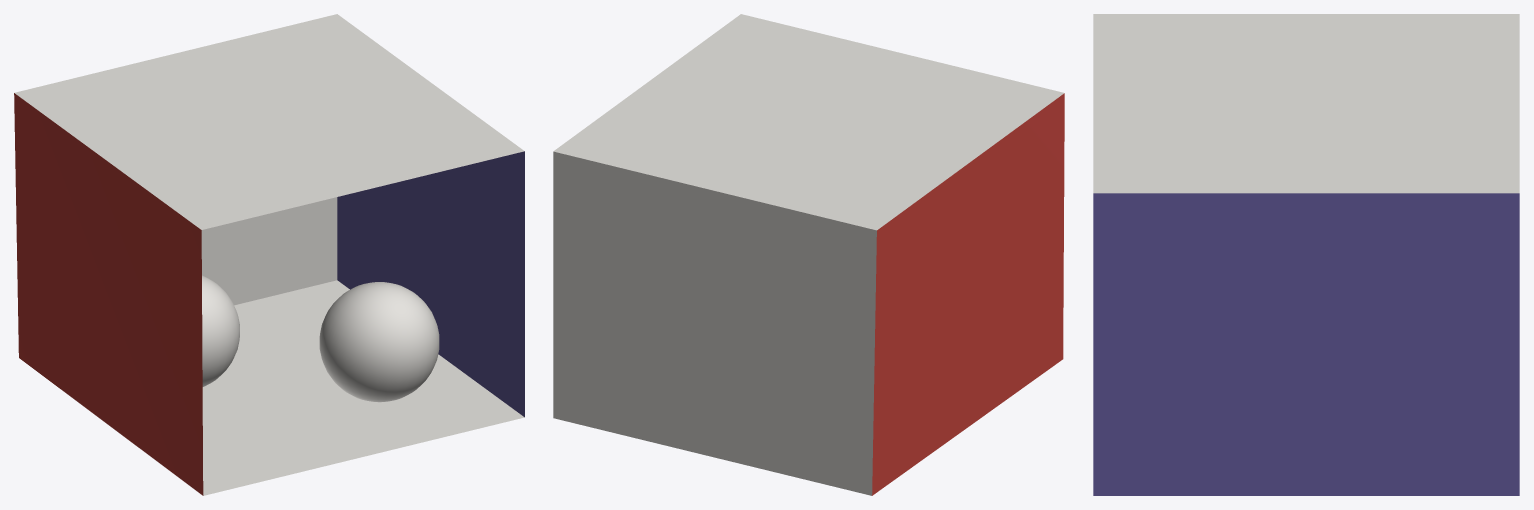
Rendered from cornell_box_sphere_2.glb.
The picture shows the model from 3 angles, left to right: view 1: azimuth 30°, elevation 25°; view 2: azimuth 150°, elevation 25°; view 3: azimuth 270°, elevation 25°; orthographic projection. The views are drawn at different scales.
Parts seen in each view (by area): view 1: CornellBox-Sphere; view 2: CornellBox-Sphere; view 3: CornellBox-Sphere.
Boxes of the visible parts, left/top/right/bottom form: CornellBox-Sphere: left=14, top=14, right=524, bottom=495; CornellBox-Sphere: left=553, top=14, right=1064, bottom=495; CornellBox-Sphere: left=1093, top=14, right=1519, bottom=495.
Bounding box in the file's own units: 2.02 × 1.59 × 2.03.
